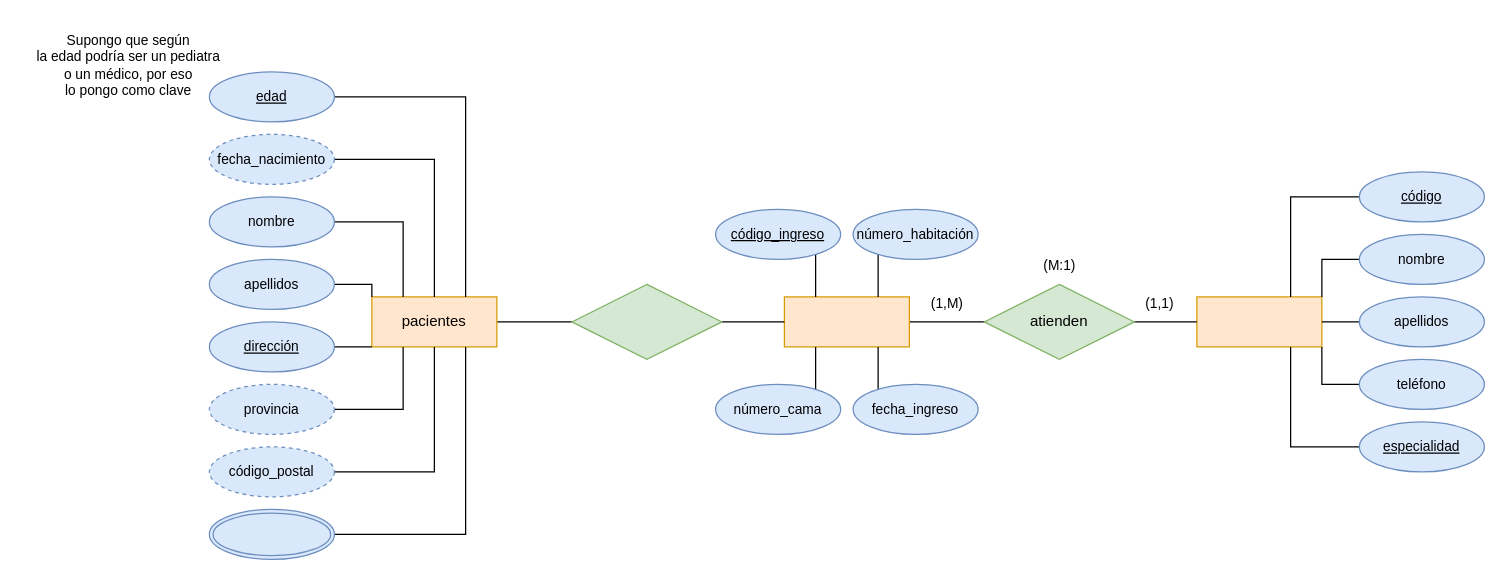
Some shapes in this 1506 by 581 pixel diagram are drawn without their labels. Each missing label, with the centre of its shape:
"ingresos" goes at pixel 846 321.
"médicos" goes at pixel 1259 321.
"realizan" goes at pixel 646 321.
"teléfonos" goes at pixel 271 533.
